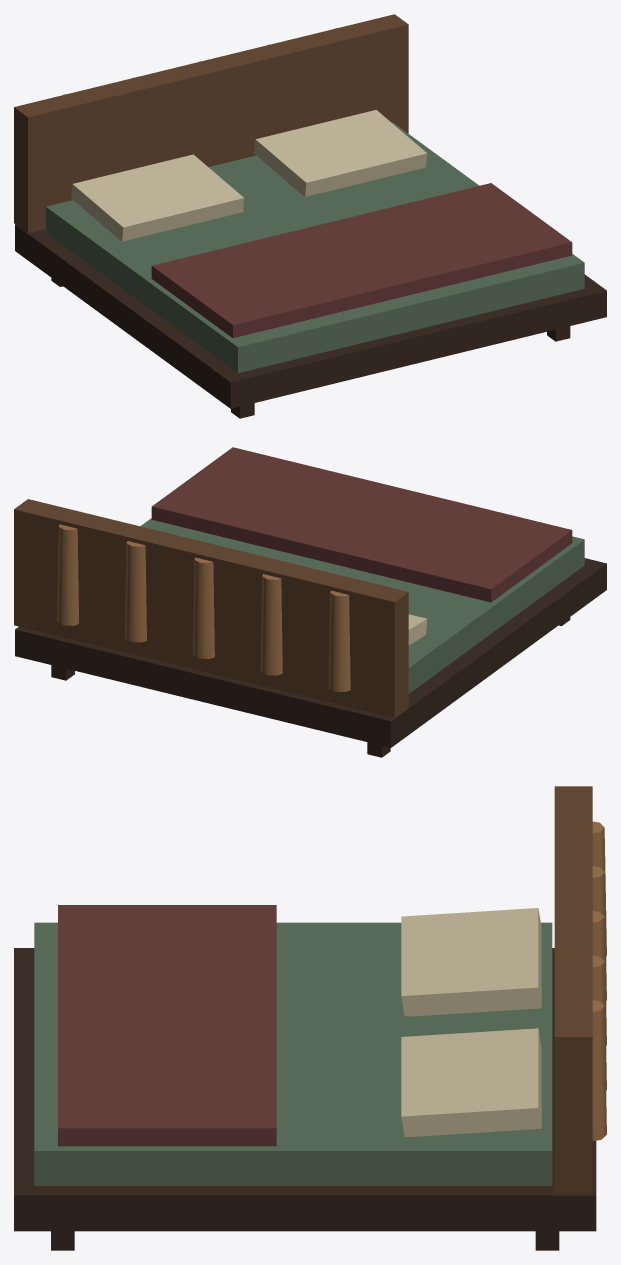
File: double_bed.glb
3 views of the same model, one above another, from view 1: azimuth 30°, elevation 25°; view 2: azimuth 150°, elevation 25°; view 3: azimuth 270°, elevation 25° (orthographic). The views are drawn at different scales.
Parts seen in each view (by area): view 1: double_bed; view 2: double_bed; view 3: double_bed.
Part boxes in pixels (x1,y1,x2,y2): double_bed: [14, 14, 606, 418]; double_bed: [14, 447, 606, 757]; double_bed: [14, 786, 606, 1250].
Bounding box in the file's own units: 2.8 × 1.2 × 2.8.
1 material, 1 textured.
